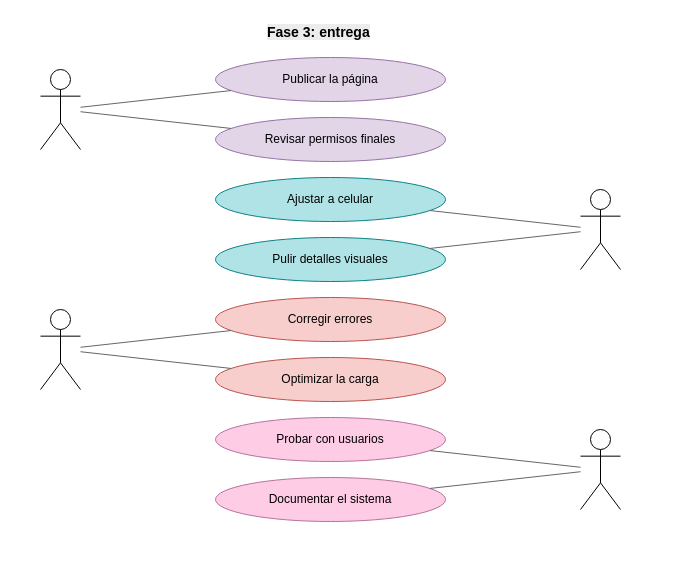
Some shapes in this 679 by 562 pixel diagram are drawn without their labels. The centre of each missing label's shape, as x and y in pixels:
"Ana Líder y Firebase" goes at [60,109].
"Compañero 1 Diseño de interfaz" goes at [600,229].
"Compañero 2 Código" goes at [60,349].
"Compañero 3 Pruebas y documentos" goes at [600,469].
